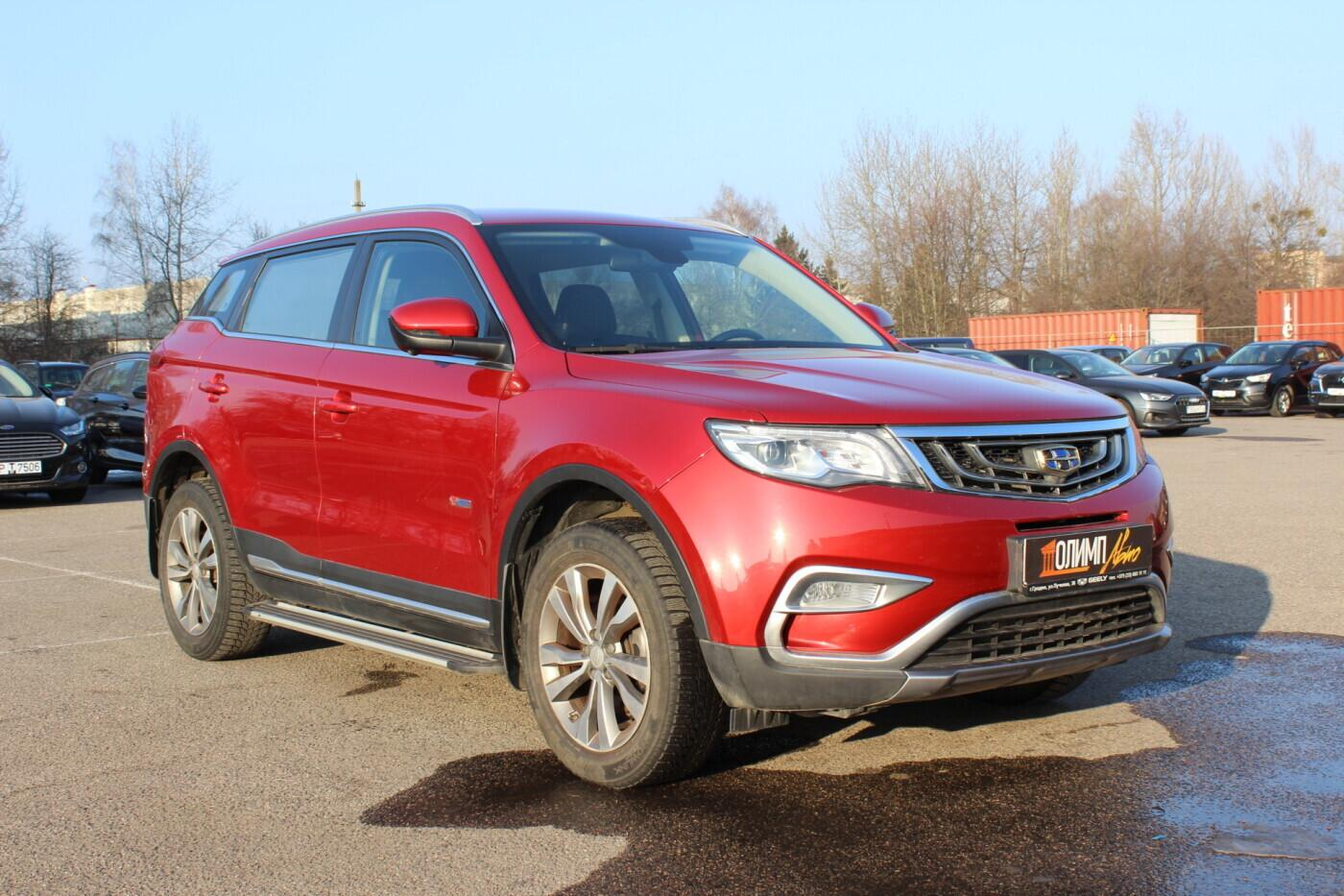Atlas_2016-2023: (138, 199, 1183, 811)
